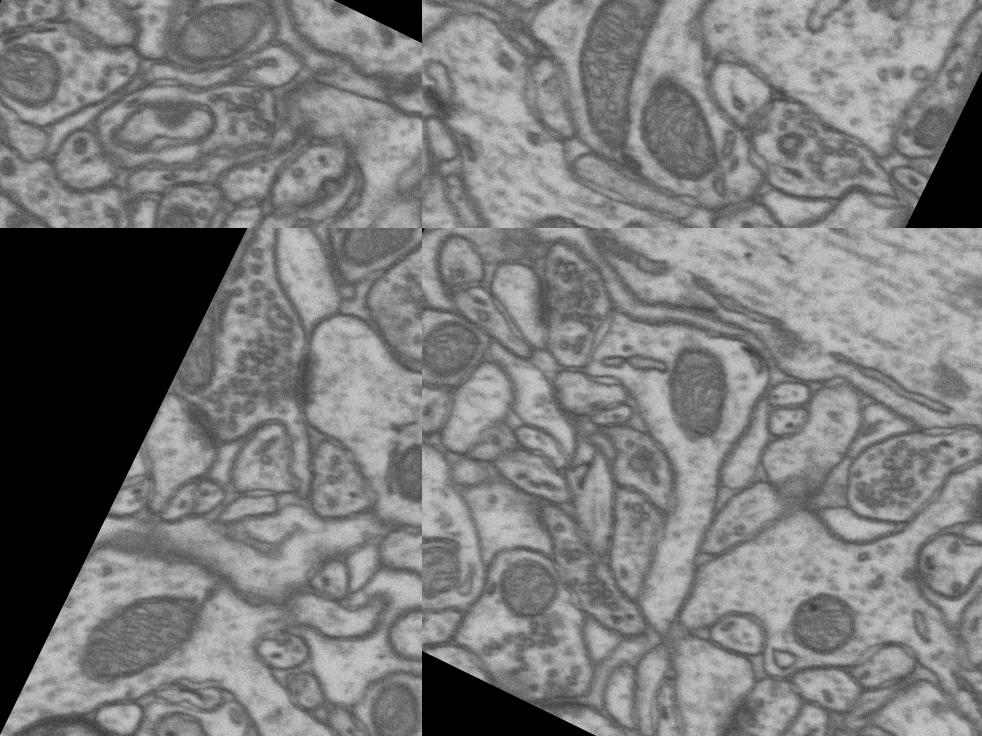mitochondria: (64, 550, 228, 722), (538, 0, 703, 157), (169, 228, 291, 402), (612, 58, 745, 190), (634, 315, 763, 441), (763, 568, 887, 686), (482, 548, 583, 653), (171, 0, 273, 81), (314, 228, 422, 303), (422, 302, 502, 393), (606, 420, 687, 509), (422, 519, 490, 620), (931, 0, 982, 134), (0, 27, 74, 118), (124, 684, 238, 736), (345, 671, 422, 736), (900, 92, 962, 162), (374, 422, 422, 512), (465, 228, 541, 269), (124, 196, 217, 228), (518, 201, 620, 228)
